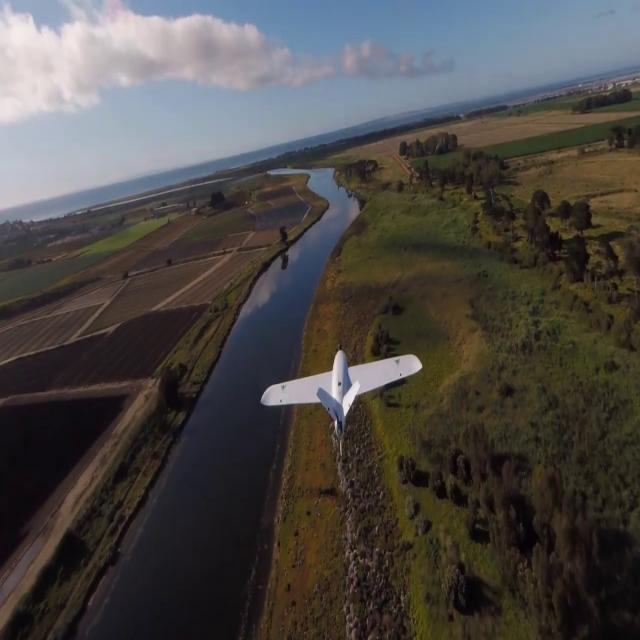iha: (260, 380, 424, 397)
